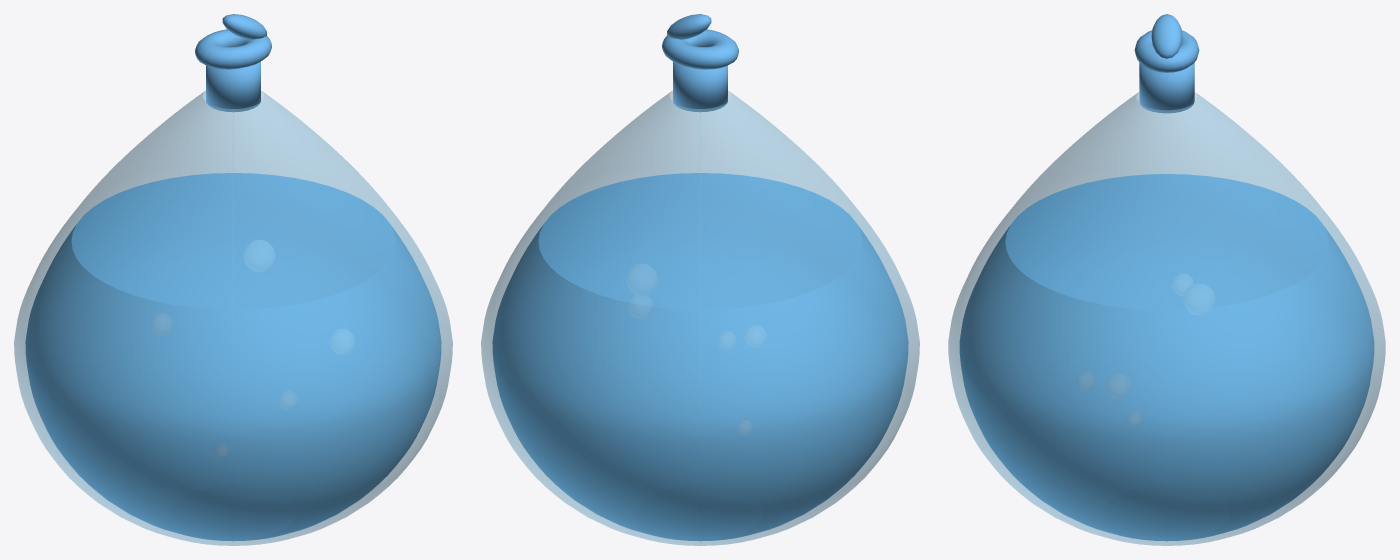
Rendered from ITEM_WaterBalloon.fbx.
3 views of the same model, side by side, from view 1: azimuth 30°, elevation 25°; view 2: azimuth 150°, elevation 25°; view 3: azimuth 270°, elevation 25° (orthographic).
Parts seen in each view (by area): view 1: ITEM_WaterBalloon, Water, Knot; view 2: ITEM_WaterBalloon, Water, Knot; view 3: ITEM_WaterBalloon, Water, Knot.
Boxes of the visible parts, x1,y1,x2,y2 form: ITEM_WaterBalloon: [14, 91, 452, 545]; Water: [25, 173, 441, 541]; Knot: [195, 14, 271, 112]; ITEM_WaterBalloon: [481, 91, 919, 545]; Water: [492, 173, 908, 541]; Knot: [662, 14, 738, 112]; ITEM_WaterBalloon: [948, 92, 1385, 545]; Water: [959, 174, 1374, 541]; Knot: [1134, 14, 1199, 113].
Bounding box in the file's own units: 26.99 × 34.48 × 26.99.
